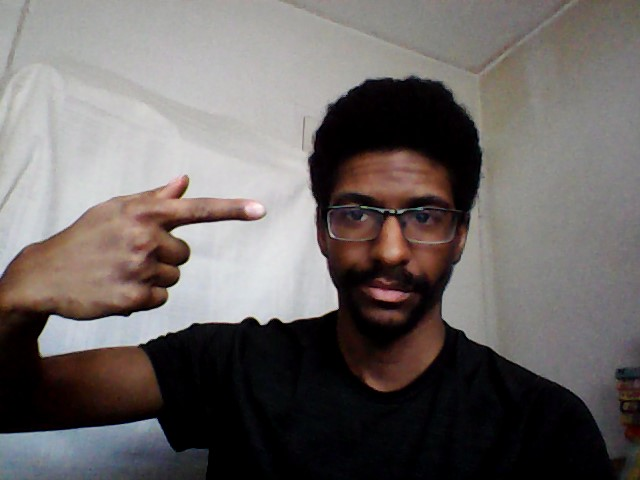g: (38, 170, 269, 326)
